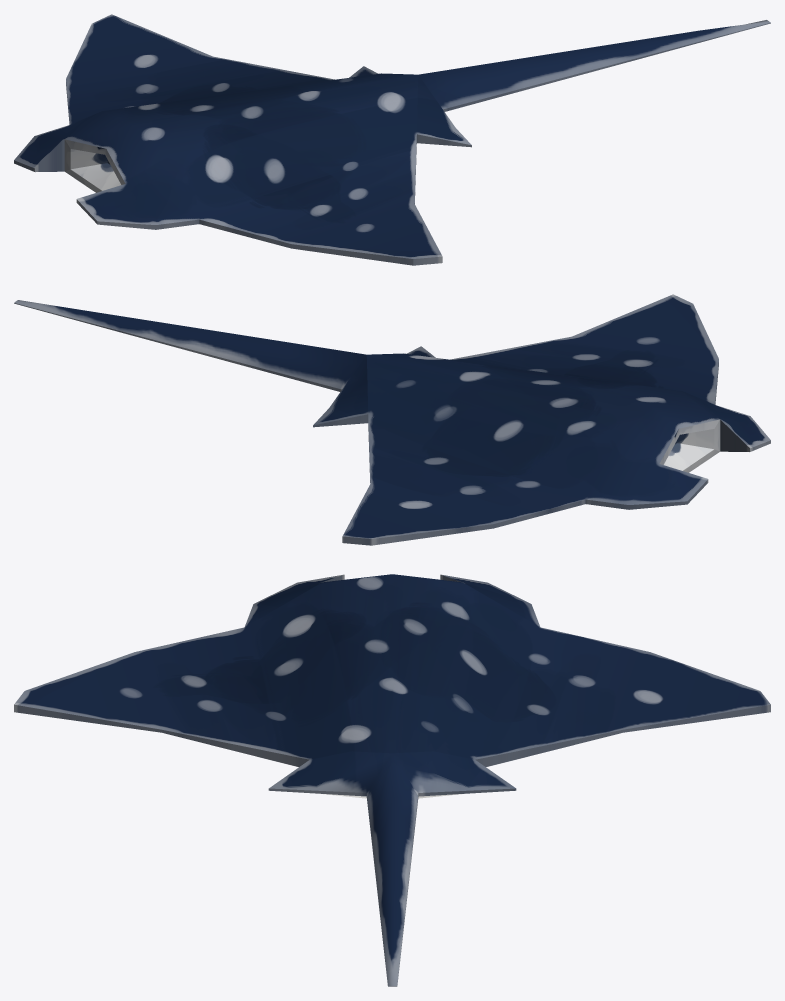
Rendered from raie.fbx.
3 renders of one model, top to bottom at view 1: azimuth 30°, elevation 25°; view 2: azimuth 150°, elevation 25°; view 3: azimuth 270°, elevation 25°, orthographic. The views are drawn at different scales.
Parts seen in each view (by area): view 1: raie; view 2: raie; view 3: raie.
Part boxes in pixels (box(x1,y1,x2,y2)): raie: box(14, 14, 770, 265); raie: box(14, 294, 770, 545); raie: box(14, 574, 770, 986).
Size of the model in its own units: 7.4 by 0.6869 by 5.95.
